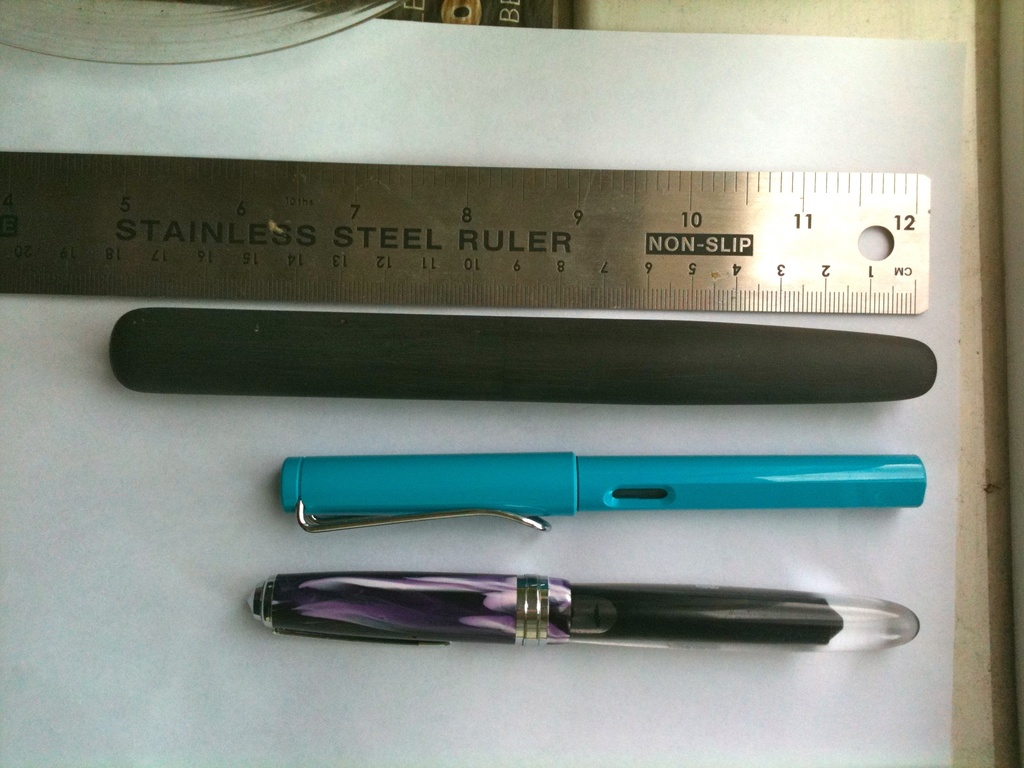Pen: (272, 446, 928, 540), (245, 567, 919, 654)
